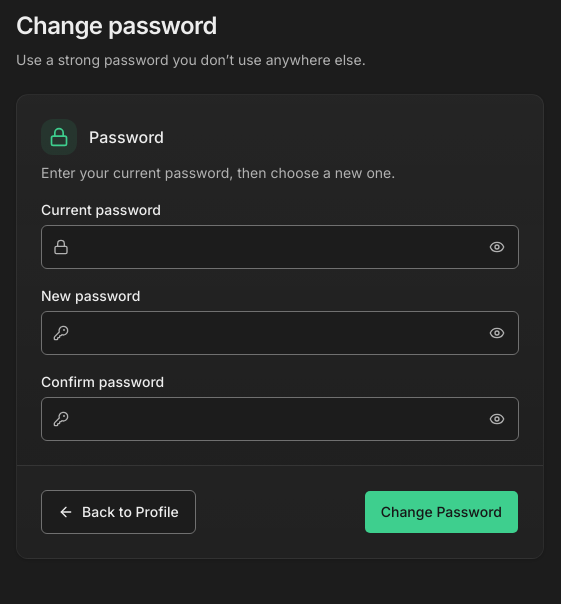
it: ChangePassword › a server 422 on confirm_password shows on that field the same way
Type "Old!Passw0rd" into the password field labelled "Current password". click: (280, 247)
box: [41,225,519,269]
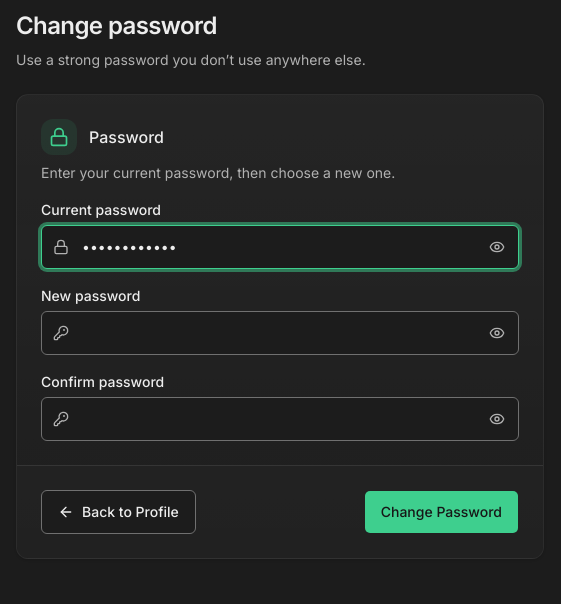
Type "New!Passw0rd#1" into the password field labelled "New password". click: (280, 333)
box: [41,311,519,355]
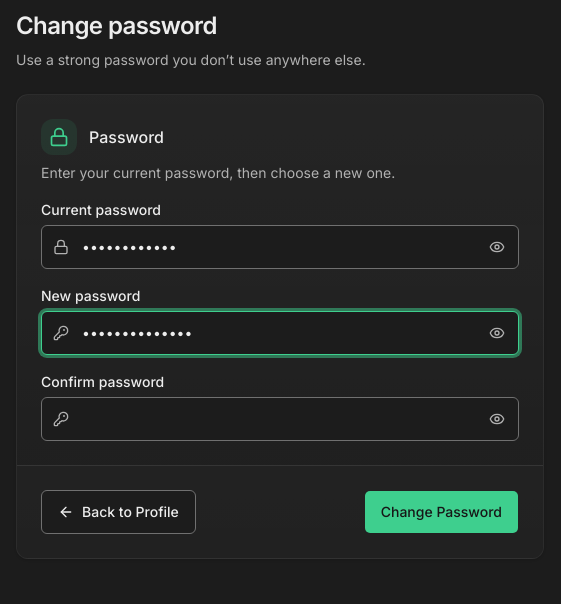
Type "New!Passw0rd#1" into the password field labelled "Confirm password". click: (280, 419)
box: [41,397,519,441]
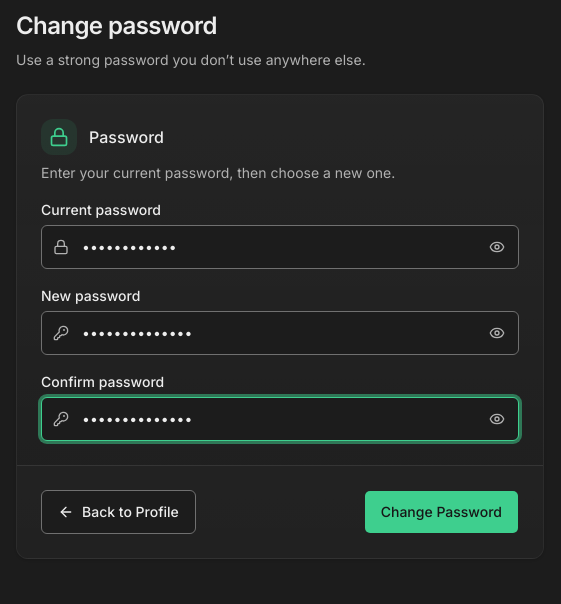
Click the button "Change Password". click: (441, 512)
box: [364,490,519,534]
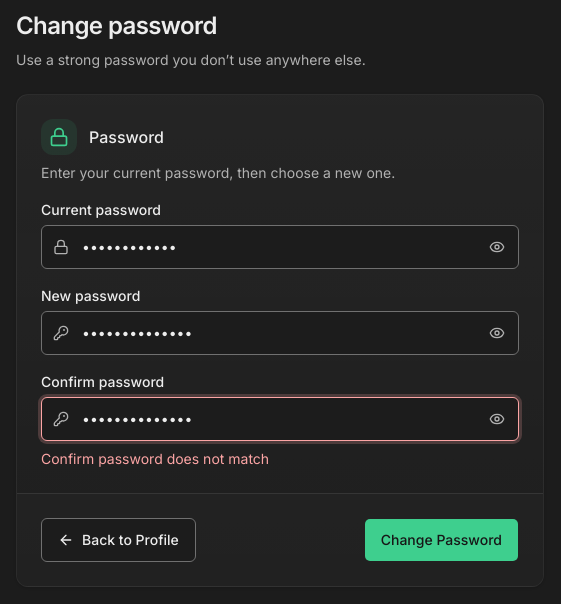
Expected: the text "Confirm password does not match" is shown, [41,450,269,467]
